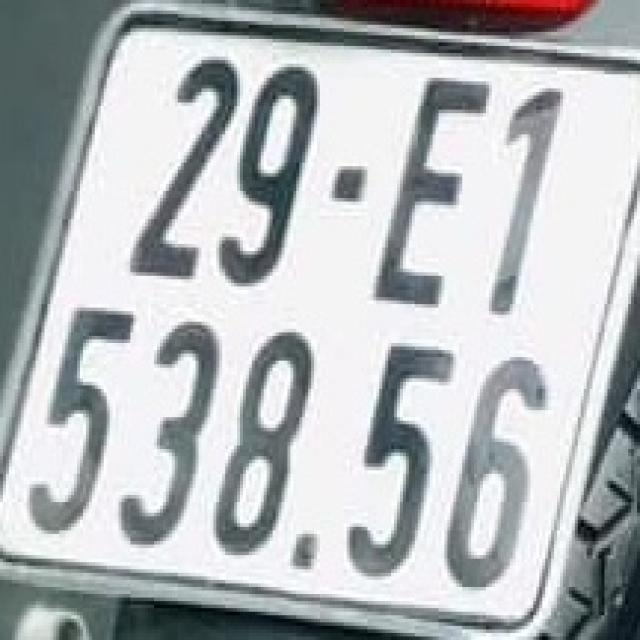1: (486, 74, 566, 318)
2: (125, 49, 234, 283)
3: (118, 318, 216, 548)
5: (344, 336, 450, 580), (30, 300, 130, 534)
6: (442, 350, 548, 591)
8: (210, 322, 314, 558)
9: (216, 60, 320, 290)
E: (373, 64, 486, 311)
